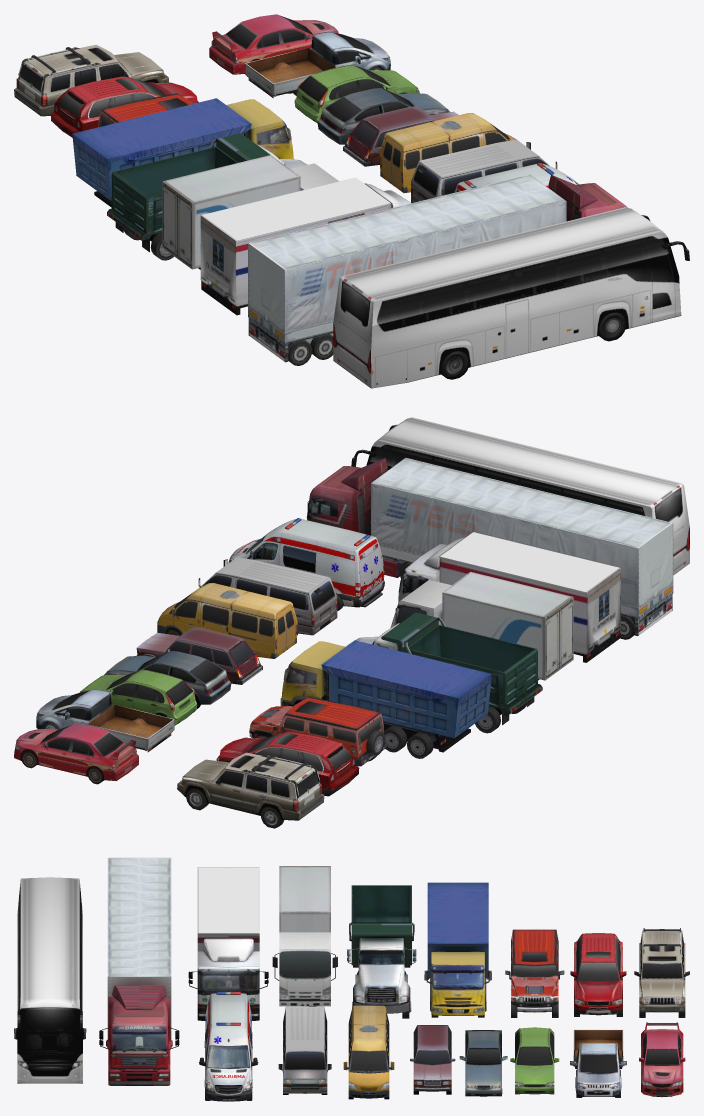
Rendered from traffic_racer_npc_vehicles_pack.glb.
3 views of the same model, one above another, from view 1: azimuth 30°, elevation 25°; view 2: azimuth 150°, elevation 25°; view 3: azimuth 270°, elevation 25° (orthographic). The views are drawn at different scales.
Parts seen in each view (by area): view 1: scania_bus_8, tir_31, truck3_14, truck1_21, isuzu.001_25, truck2_18, jeep_commander_1, gazel_bus_6, pickup_new_24, lancer_evo_5, toyota_hiace_9, volvo_xc90_10 (+5 smaller); view 2: tir_31, scania_bus_8, truck3_14, truck1_21, isuzu.001_25, jeep_commander_1, ambulans_yeni_7, truck2_18, gazel_bus_6, lancer_evo_5, hummer_0, toyota_hiace_9 (+5 smaller); view 3: tir_31, scania_bus_8, truck1_21, truck3_14, isuzu.001_25, truck2_18, ambulans_yeni_7, hummer_0, volvo_xc90_10, jeep_commander_1, toyota_hiace_9, gazel_bus_6 (+5 smaller).
Boxes of the visible parts, x1,y1,x2,y2 form: scania_bus_8: (333,207,689,388); tir_31: (248,174,627,362); truck3_14: (72,98,293,207); truck1_21: (200,177,411,315); isuzu.001_25: (162,155,338,269); truck2_18: (107,133,307,252); jeep_commander_1: (14,44,168,116); gazel_bus_6: (379,113,516,193); pickup_new_24: (245,31,390,98); lancer_evo_5: (209,14,338,74); toyota_hiace_9: (411,139,557,202); volvo_xc90_10: (50,76,198,137); tir_31: (306,457,673,635); scania_bus_8: (351,417,689,575); truck3_14: (280,640,491,752); truck1_21: (398,532,620,662); isuzu.001_25: (390,572,573,680); jeep_commander_1: (177,752,324,828); ambulans_yeni_7: (228,518,384,611); truck2_18: (347,612,542,725); gazel_bus_6: (157,583,297,658); lancer_evo_5: (14,723,138,784); hummer_0: (249,696,387,766); toyota_hiace_9: (198,557,337,635); tir_31: (99,857,179,1085); scania_bus_8: (14,877,86,1083); truck1_21: (188,867,268,1020); truck3_14: (424,882,491,1015); isuzu.001_25: (272,866,337,1006); truck2_18: (347,885,416,1013); ambulans_yeni_7: (199,992,258,1101); hummer_0: (505,929,564,1017); volvo_xc90_10: (570,933,626,1016); jeep_commander_1: (634,928,689,1017); toyota_hiace_9: (278,1006,331,1094); gazel_bus_6: (343,1005,394,1099).
Size of the model in its own units: 31.13 by 7.55 by 53.01.
Materials: 18 (18 with a texture image).
